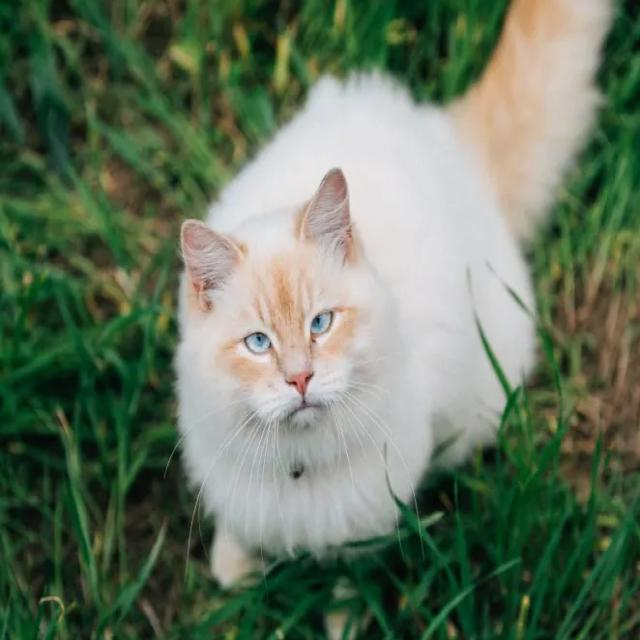Neva Masquerade: (166, 0, 620, 595)
